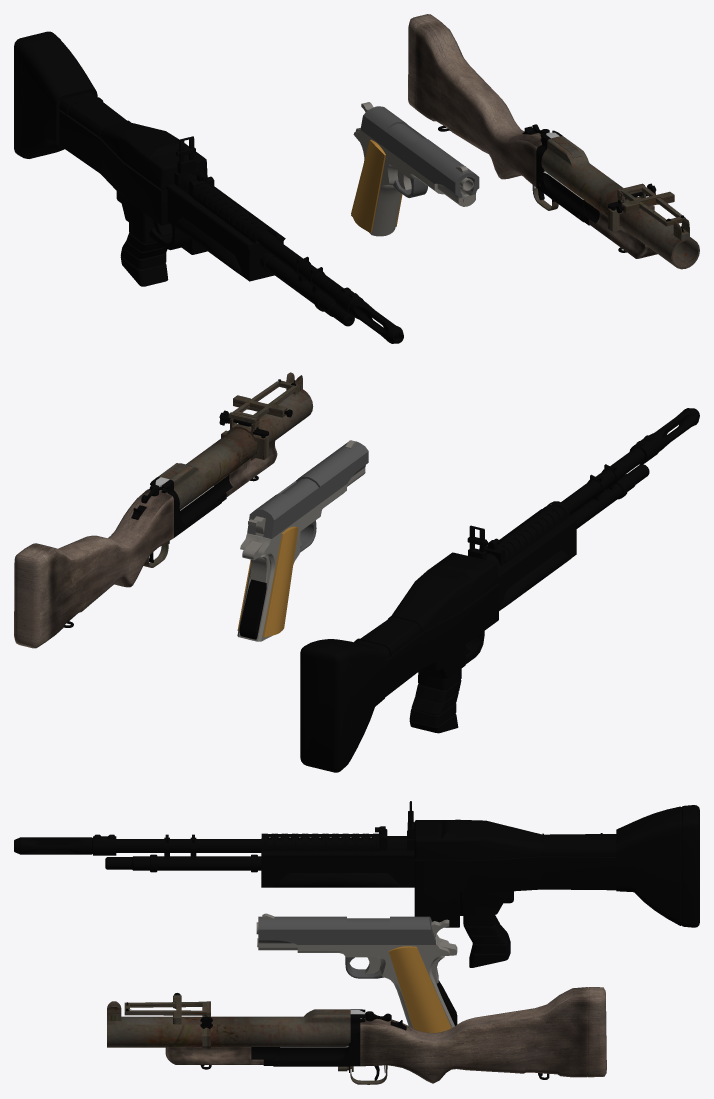
File: Gun Export Oct8.fbx
The picture shows the model from 3 angles, top to bottom: view 1: azimuth 30°, elevation 25°; view 2: azimuth 150°, elevation 25°; view 3: azimuth 270°, elevation 25°; orthographic projection. The views are drawn at different scales.
Parts seen in each view (by area): view 1: Gun_1, Gun_3, Gun_2; view 2: Gun_1, Gun_3, Gun_2; view 3: Gun_1, Gun_3, Gun_2.
Boxes of the visible parts, bbox=[...] form: Gun_1: bbox=[14, 31, 403, 343]; Gun_3: bbox=[408, 14, 699, 269]; Gun_2: bbox=[351, 102, 479, 236]; Gun_1: bbox=[300, 408, 699, 772]; Gun_3: bbox=[14, 372, 313, 648]; Gun_2: bbox=[237, 440, 368, 641]; Gun_1: bbox=[14, 801, 699, 967]; Gun_3: bbox=[107, 987, 606, 1084]; Gun_2: bbox=[256, 913, 457, 1032].
Size of the model in its own units: 1.93 by 0.8099 by 3.19.
